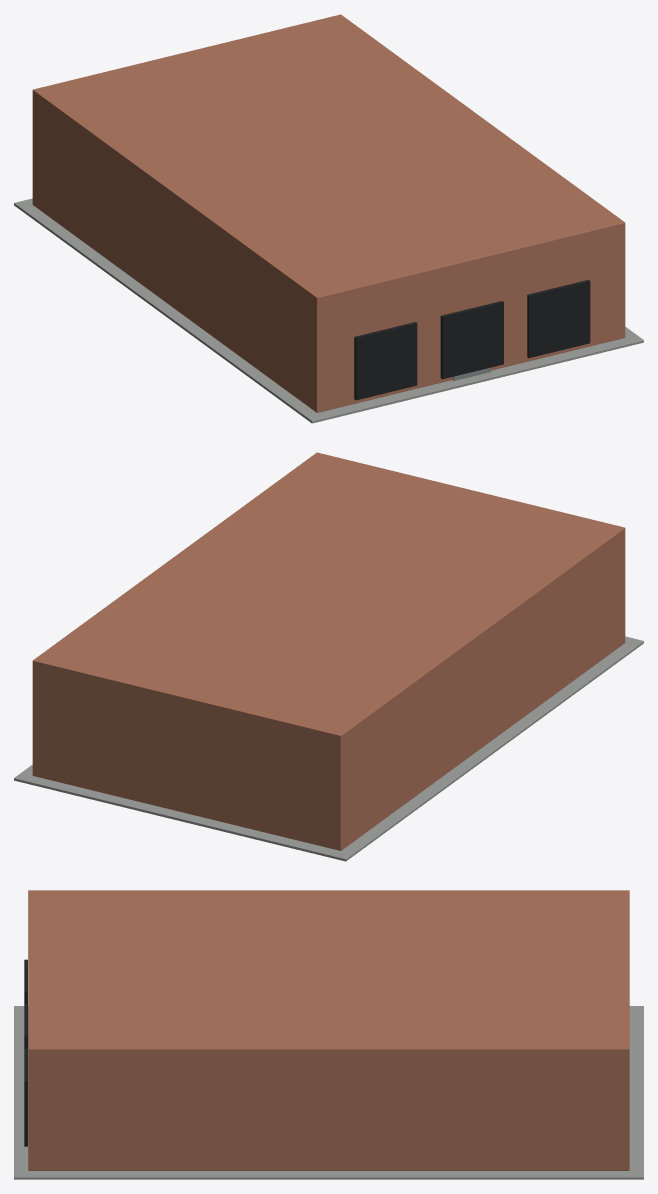
File: Building_Landmark_007.glb
3 renders of one model, top to bottom at view 1: azimuth 30°, elevation 25°; view 2: azimuth 150°, elevation 25°; view 3: azimuth 270°, elevation 25°, orthographic. The views are drawn at different scales.
Parts seen in each view (by area): view 1: Building_Landmark_007; view 2: Building_Landmark_007; view 3: Building_Landmark_007.
Boxes of the visible parts, bbox=[...] form: Building_Landmark_007: bbox=[14, 14, 643, 423]; Building_Landmark_007: bbox=[14, 452, 643, 861]; Building_Landmark_007: bbox=[14, 890, 643, 1179].
Size of the model in its own units: 21.08 by 7.16 by 32.78.
